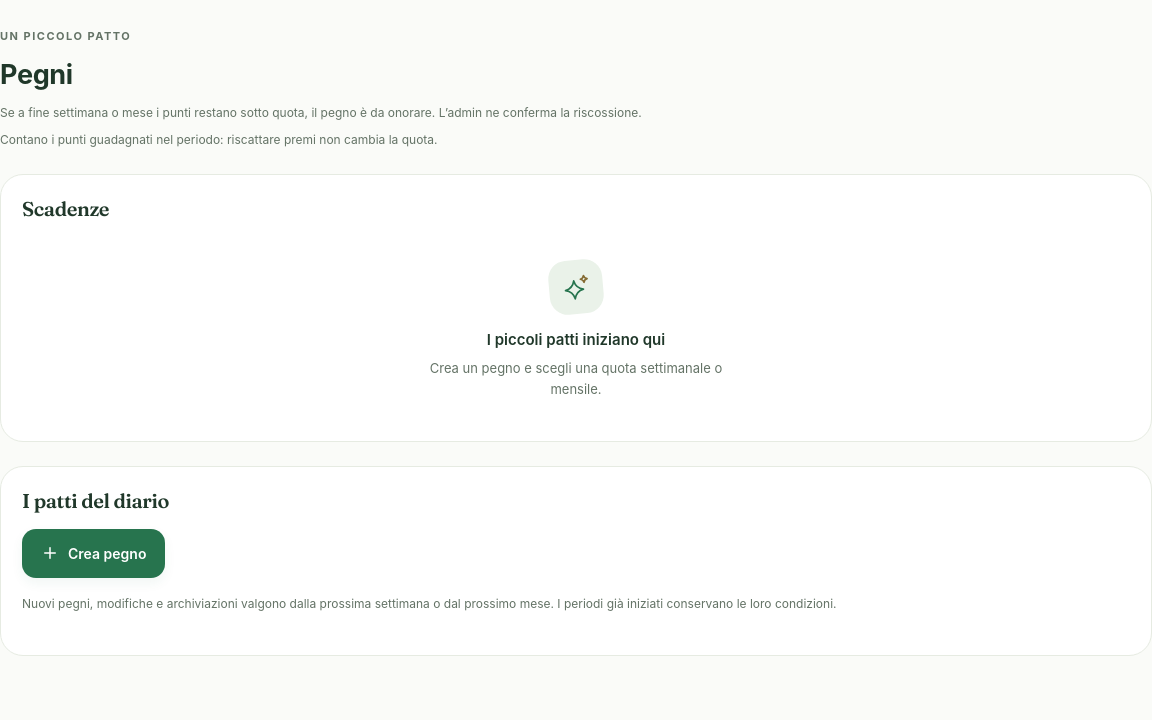
Scenario: permette di scegliere settimana o mese e comunica la decorrenza del nuovo pegno
Step 1. Click the button "Crea pegno" → coordinates (94, 553), box [22, 529, 165, 578]
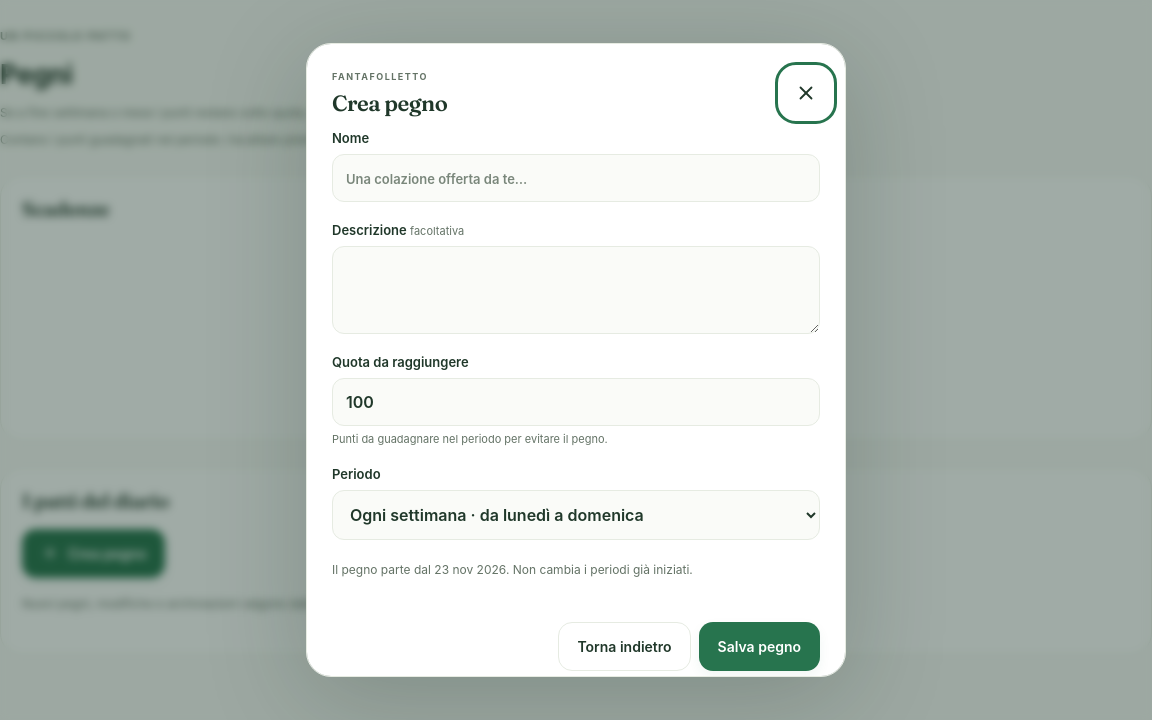
Expected: the text "dal 23 nov 2026" is shown, [332, 562, 693, 577]
Step 2. Type "Una cena preparata da te" into the field labelled "Nome" → coordinates (576, 178), box [332, 154, 820, 202]
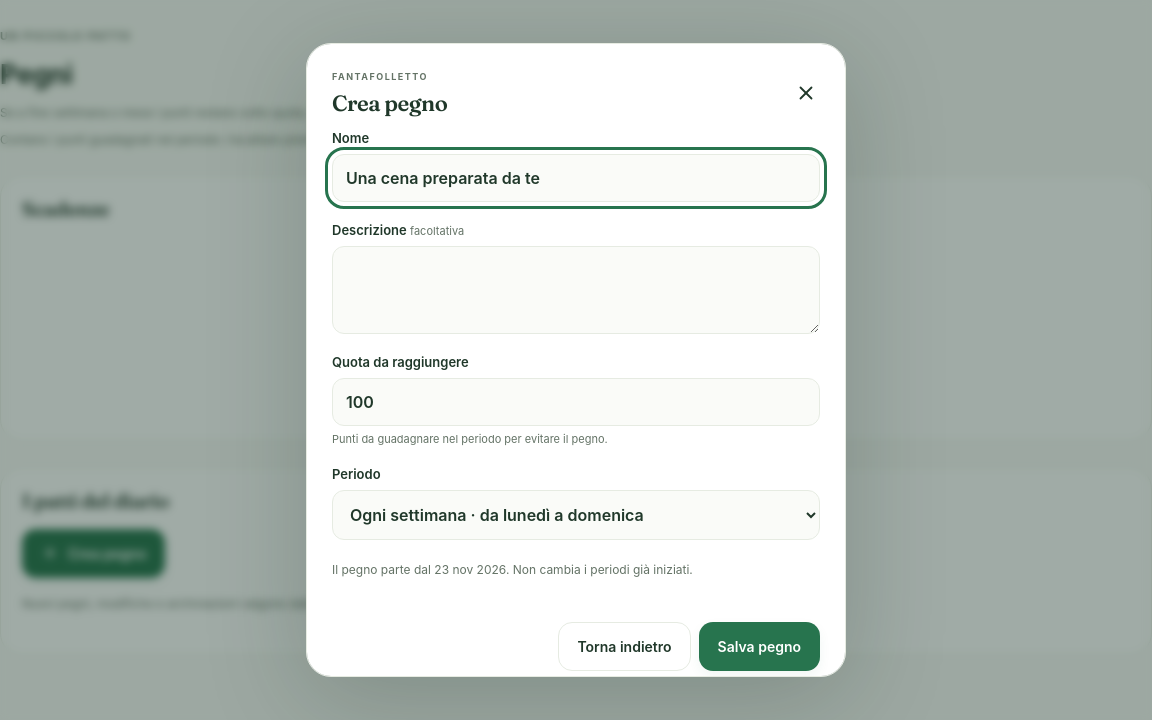
Step 3. Select "Ogni mese · dal primo all’ultimo giorno" in the dropdown labelled "Periodo" → coordinates (576, 515), box [332, 490, 820, 540]
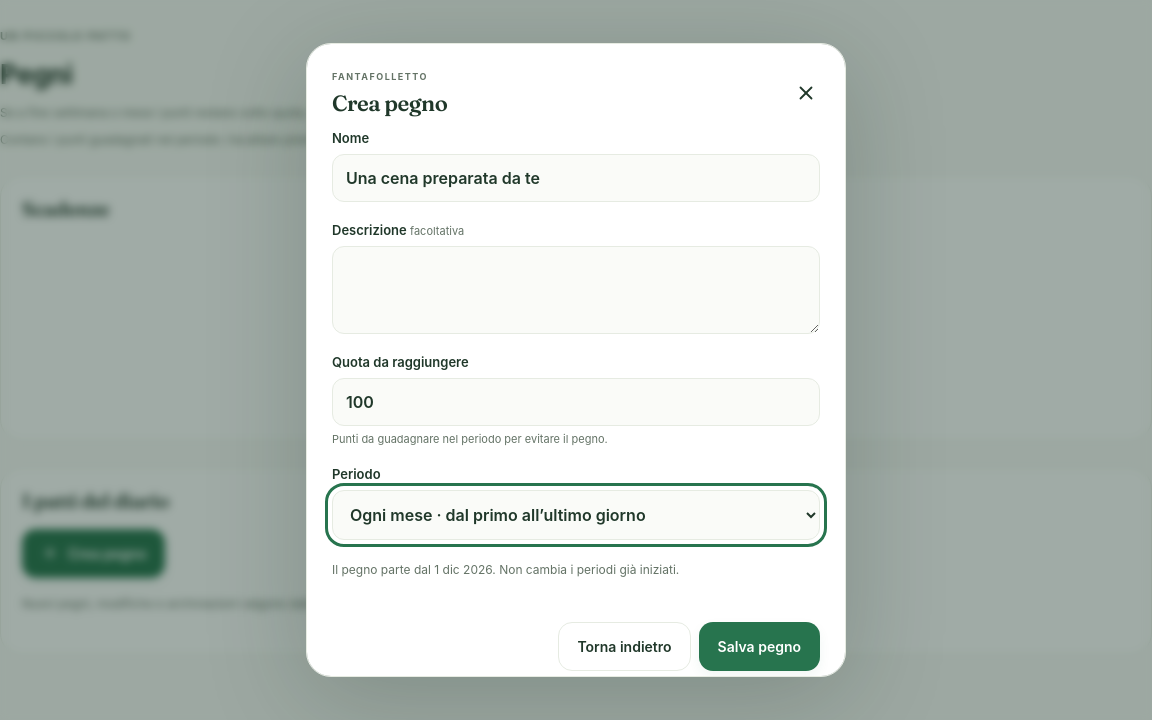
Expected: the text "dal 1 dic 2026" is shown, [332, 562, 679, 577]
Step 4. Replace the text in the number field labelled "Quota da raggiungere" with "300" → coordinates (576, 402), box [332, 378, 820, 426]
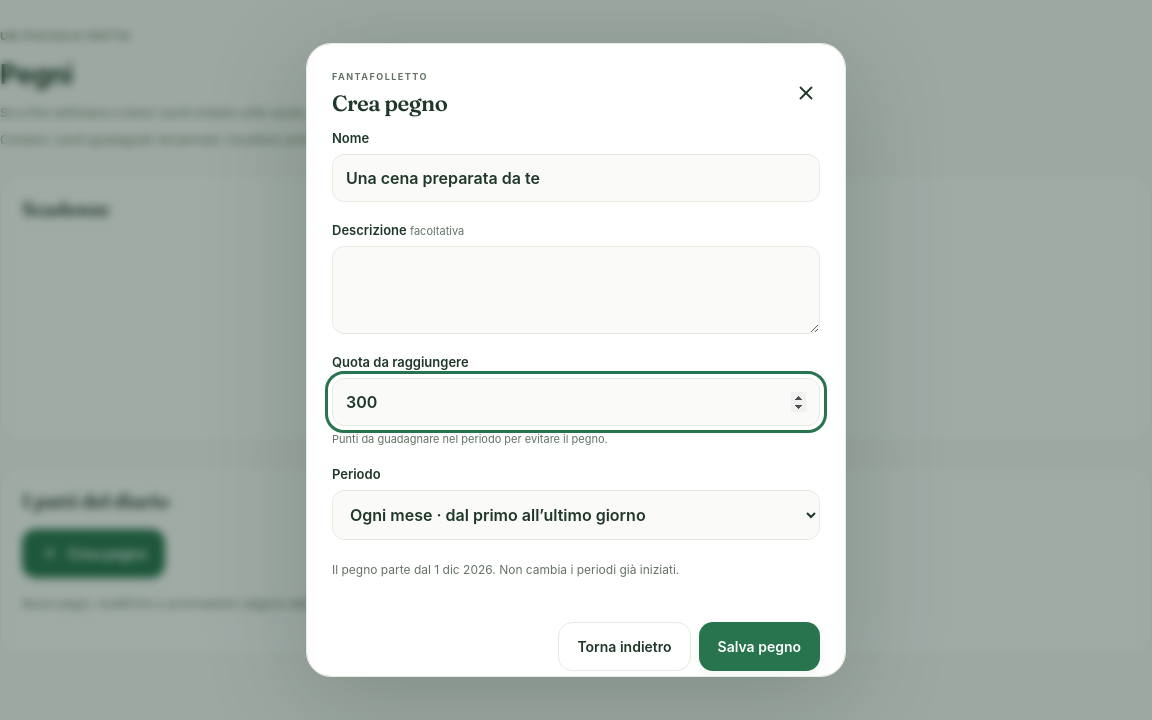
Step 5. Click the button "Salva pegno" → coordinates (759, 646), box [698, 622, 820, 671]
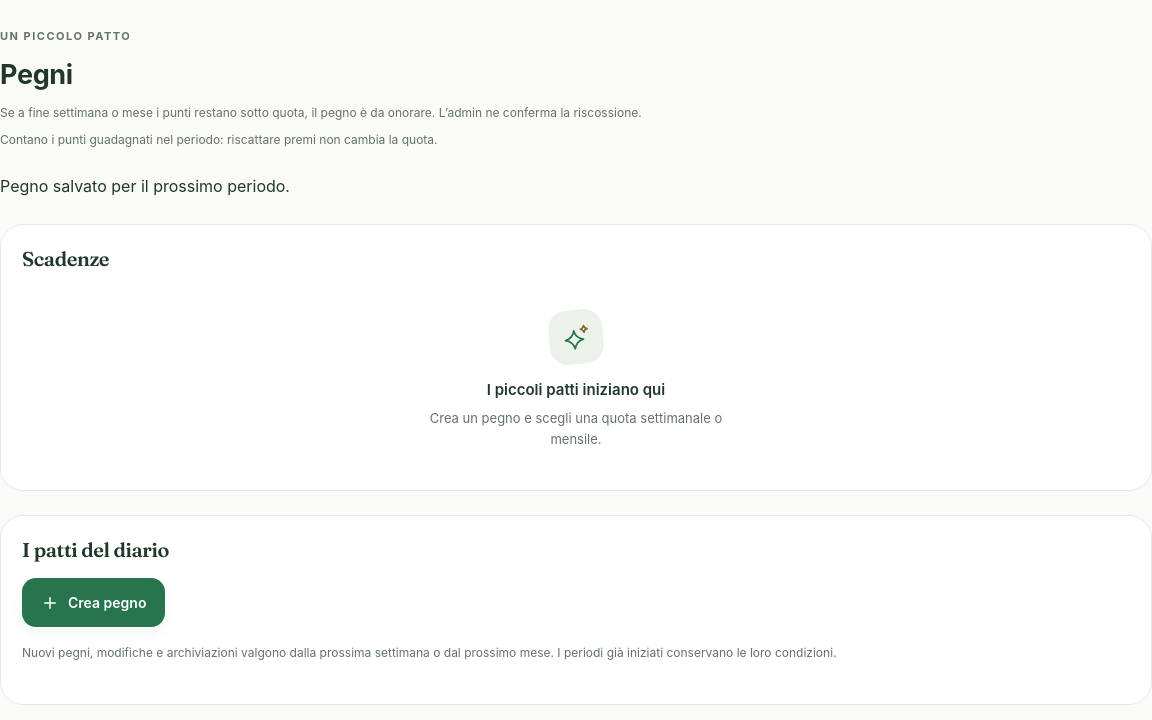
Expected: the dialog is gone
